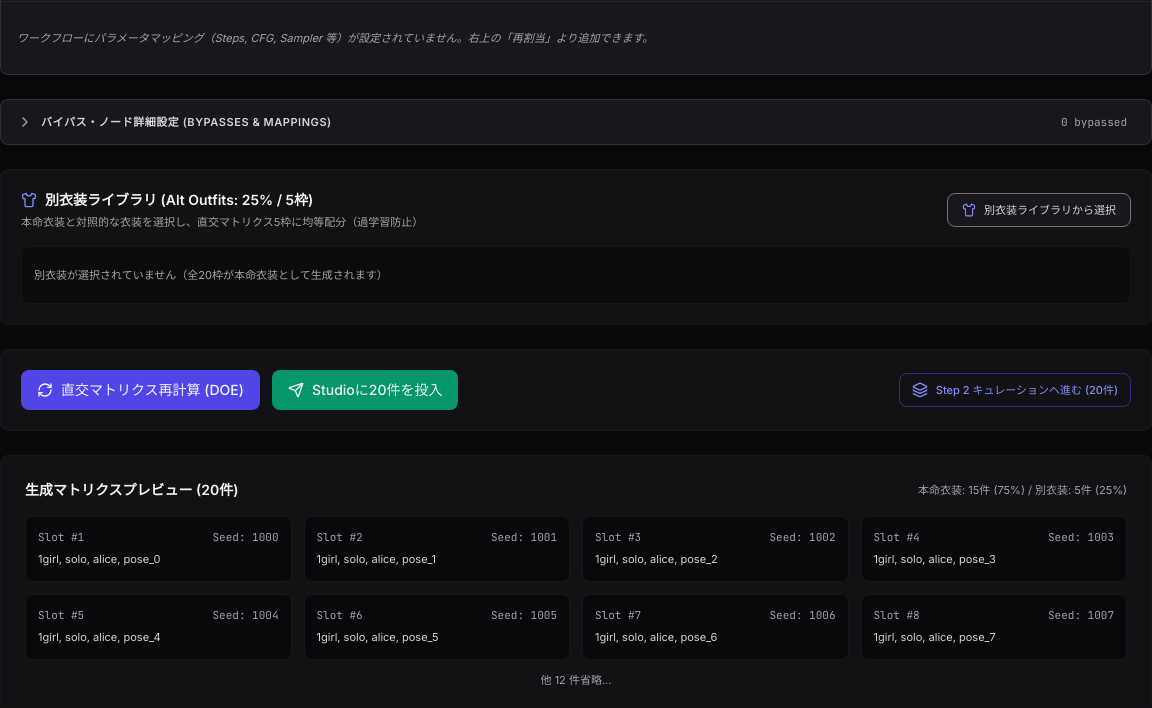
it: MatrixGenerationStep › [REQ-330/AC-1] displays an error when batch acceptance fails
The width and height of the screenshot is (1152, 708).
(page scrolled)
What coordinates should you click on to do the following:
click the button with test id "submit-batch-button"
I would click on:
 (365, 390)
Its box is [272, 370, 458, 410].
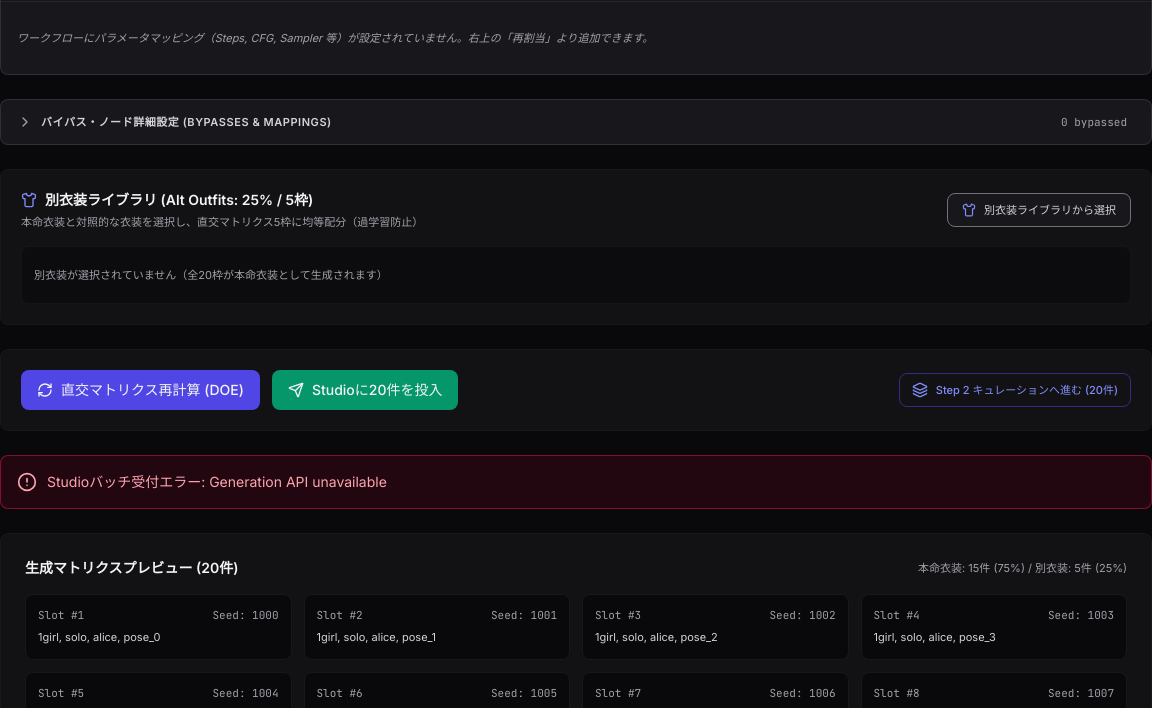
Result: the element with test id "status-message" is shown at [0, 455, 1151, 509]
Result: the element with test id "status-message" reads "Studioバッチ受付エラー: Generation API unavailable" at [47, 473, 387, 490]
